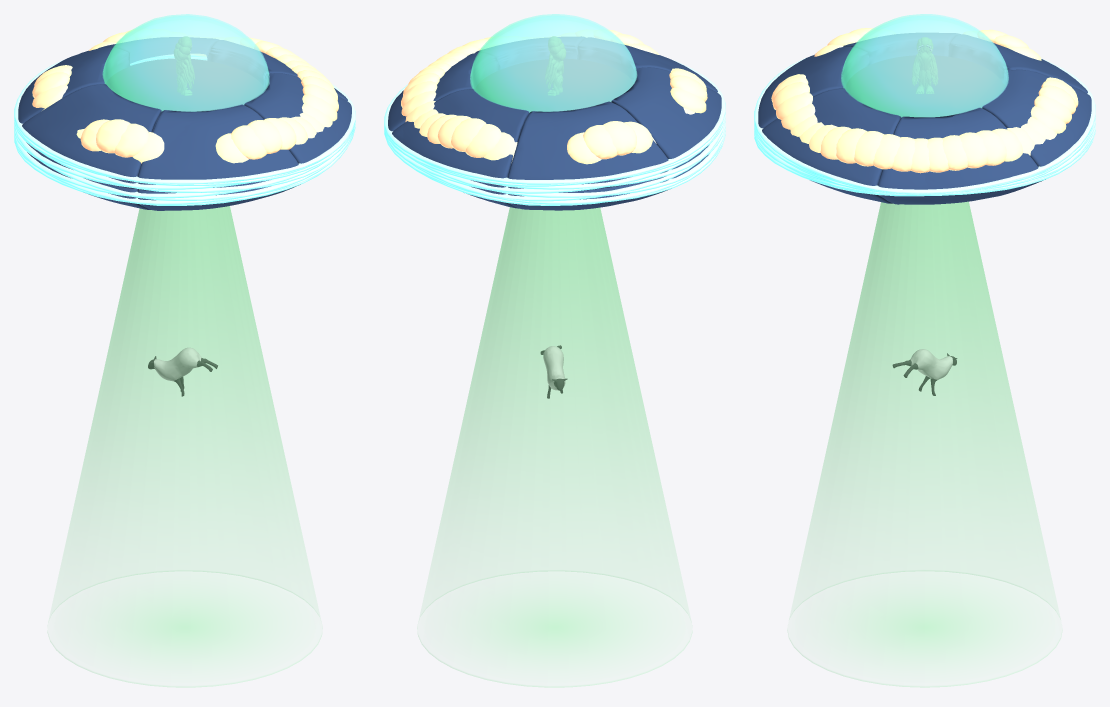
The model's file is ufo_talir.glb.
The picture shows the model from 3 angles, left to right: view 1: azimuth 30°, elevation 25°; view 2: azimuth 150°, elevation 25°; view 3: azimuth 270°, elevation 25°; orthographic projection.
Visible parts, largest first — view 1: paprsek, ufo_telo_02, ufo_telo_03, ufo_telo_01, ufo_svetla_02, ufo_svetla_03, ufo_telo_00, ufo_svetla_01, ufo_telo_07, ufo_telo_04, ufo_telo_06, ufo_telo_05 (+3 smaller); view 2: paprsek, ufo_telo_02, ufo_telo_01, ufo_telo_03, ufo_svetla_02, ufo_telo_04, ufo_svetla_01, ufo_svetla_03, ufo_telo_00, ufo_telo_05, ufo_telo_06, ufo_telo_07 (+3 smaller); view 3: paprsek, ufo_telo_02, ufo_telo_03, ufo_telo_01, ufo_telo_00, ufo_telo_04, ufo_svetla_02, ufo_svetla_01, ufo_svetla_03, ufo_svetla_00, ufo_svetla_04, ufo_svetla_07 (+6 smaller).
Part boxes in pixels (x1,y1,x2,y2): paprsek: (47, 206, 322, 687); ufo_telo_02: (14, 14, 355, 186); ufo_telo_03: (14, 16, 355, 184); ufo_telo_01: (14, 16, 354, 192); ufo_svetla_02: (32, 32, 338, 159); ufo_svetla_03: (32, 37, 337, 157); ufo_telo_00: (14, 44, 355, 200); ufo_svetla_01: (34, 29, 337, 163); ufo_telo_07: (14, 48, 355, 210); ufo_telo_04: (14, 50, 355, 189); ufo_telo_06: (14, 51, 354, 210); ufo_telo_05: (14, 69, 353, 198); paprsek: (417, 207, 692, 687); ufo_telo_02: (384, 14, 725, 186); ufo_telo_01: (384, 16, 725, 184); ufo_telo_03: (384, 16, 725, 193); ufo_svetla_02: (401, 33, 707, 157); ufo_telo_04: (384, 47, 725, 201); ufo_svetla_01: (403, 36, 706, 159); ufo_svetla_03: (401, 29, 706, 160); ufo_telo_00: (384, 67, 725, 189); ufo_telo_05: (384, 51, 725, 210); ufo_telo_06: (384, 59, 725, 210); ufo_telo_07: (385, 69, 725, 197); paprsek: (787, 201, 1062, 687); ufo_telo_02: (754, 14, 1095, 196); ufo_telo_03: (754, 16, 1095, 197); ufo_telo_01: (754, 16, 1095, 197); ufo_telo_00: (754, 67, 1095, 199); ufo_telo_04: (754, 64, 1095, 198); ufo_svetla_02: (771, 28, 1078, 165); ufo_svetla_01: (777, 29, 1075, 168); ufo_svetla_03: (772, 31, 1076, 166); ufo_svetla_00: (809, 46, 1071, 170); ufo_svetla_04: (776, 44, 1034, 169); ufo_svetla_07: (799, 106, 1066, 172).
Bounding box in the file's own units: 7.95 × 15.51 × 7.93.
11 materials, 4 textured.
